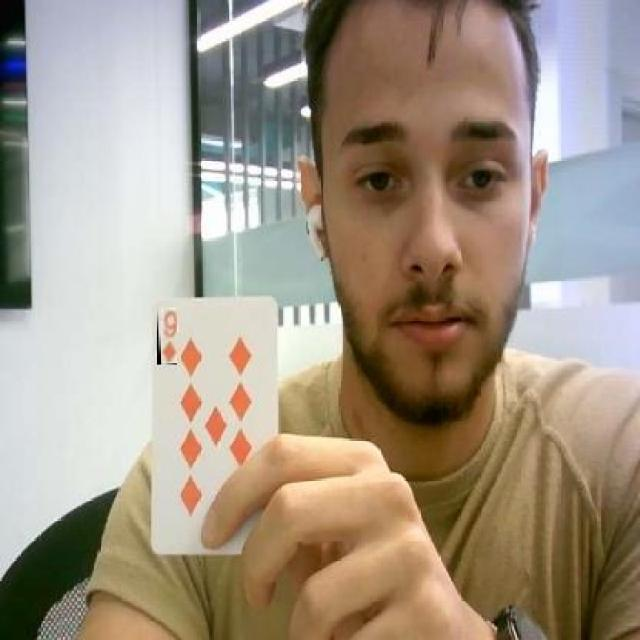9D: (157, 309, 177, 365)
